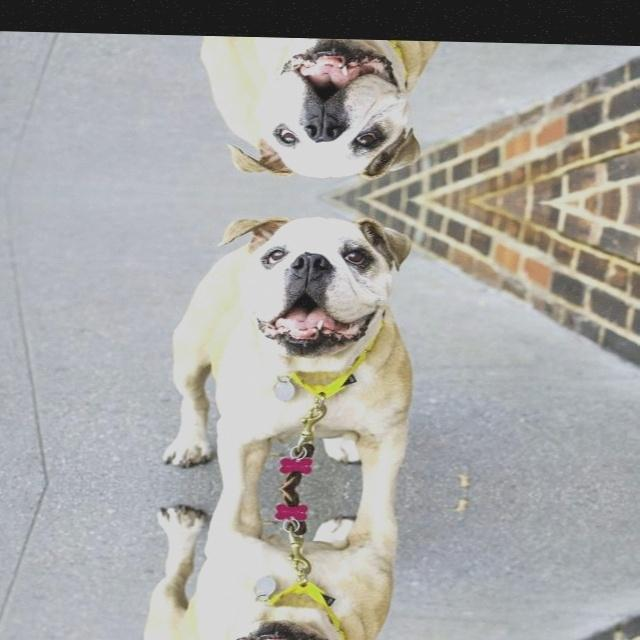dog: (140, 205, 453, 492), (124, 485, 425, 640), (169, 36, 469, 188)
